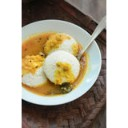idly: (44, 51, 80, 85), (45, 32, 79, 58), (22, 55, 48, 85)
